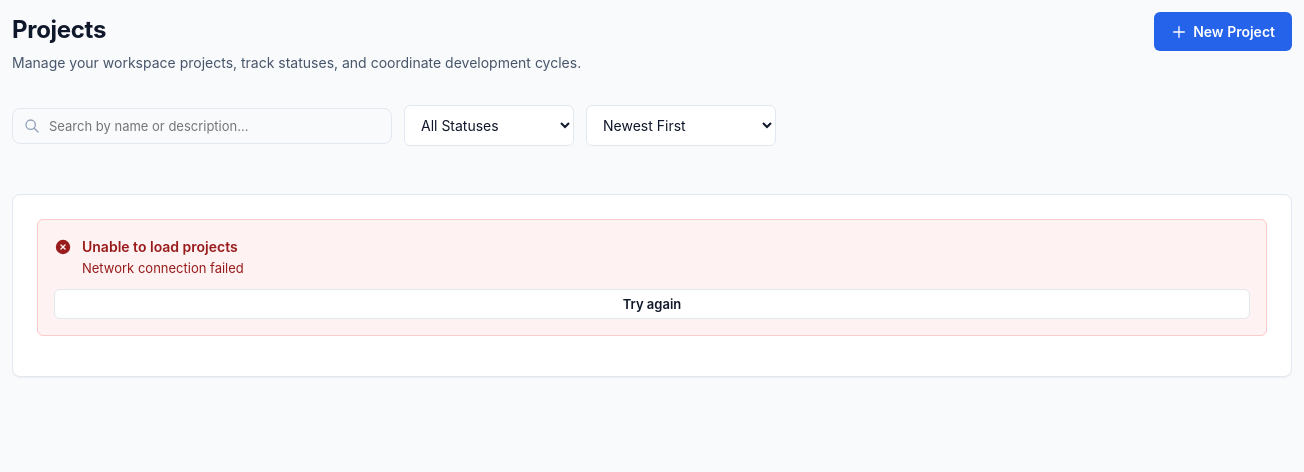
Scenario: ProjectsPage Component › displays error state and retries fetching when API fails
Check: the heading "Unable to load projects" is shown, box left=82, top=238, right=238, bottom=255
Check: the text "Network connection failed" is shown, box left=82, top=260, right=244, bottom=276
Click the button "Try again" at (652, 304), box left=54, top=289, right=1250, bottom=319
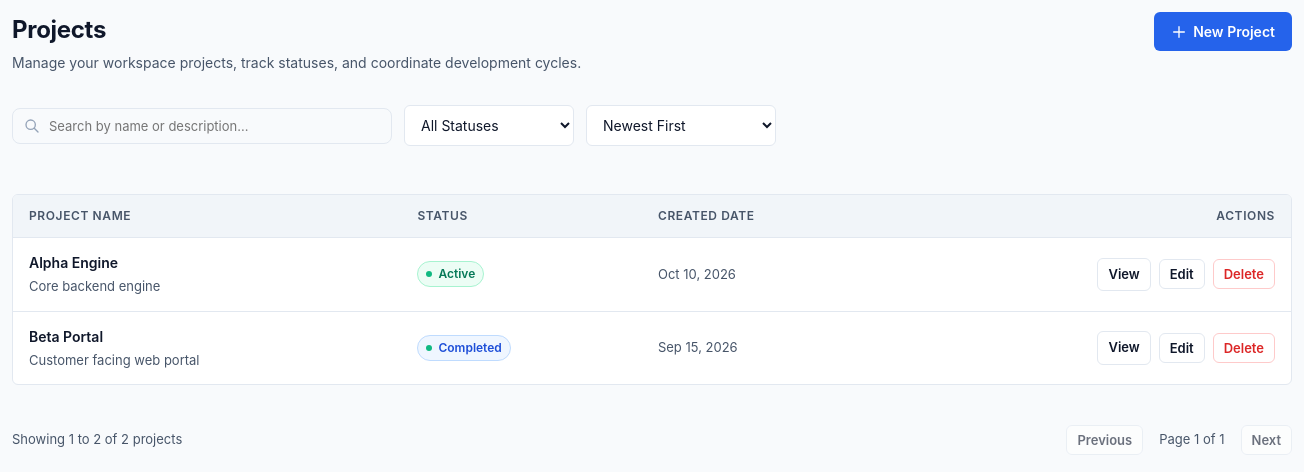
Check: the link "Alpha Engine" is shown, box left=29, top=254, right=118, bottom=271
